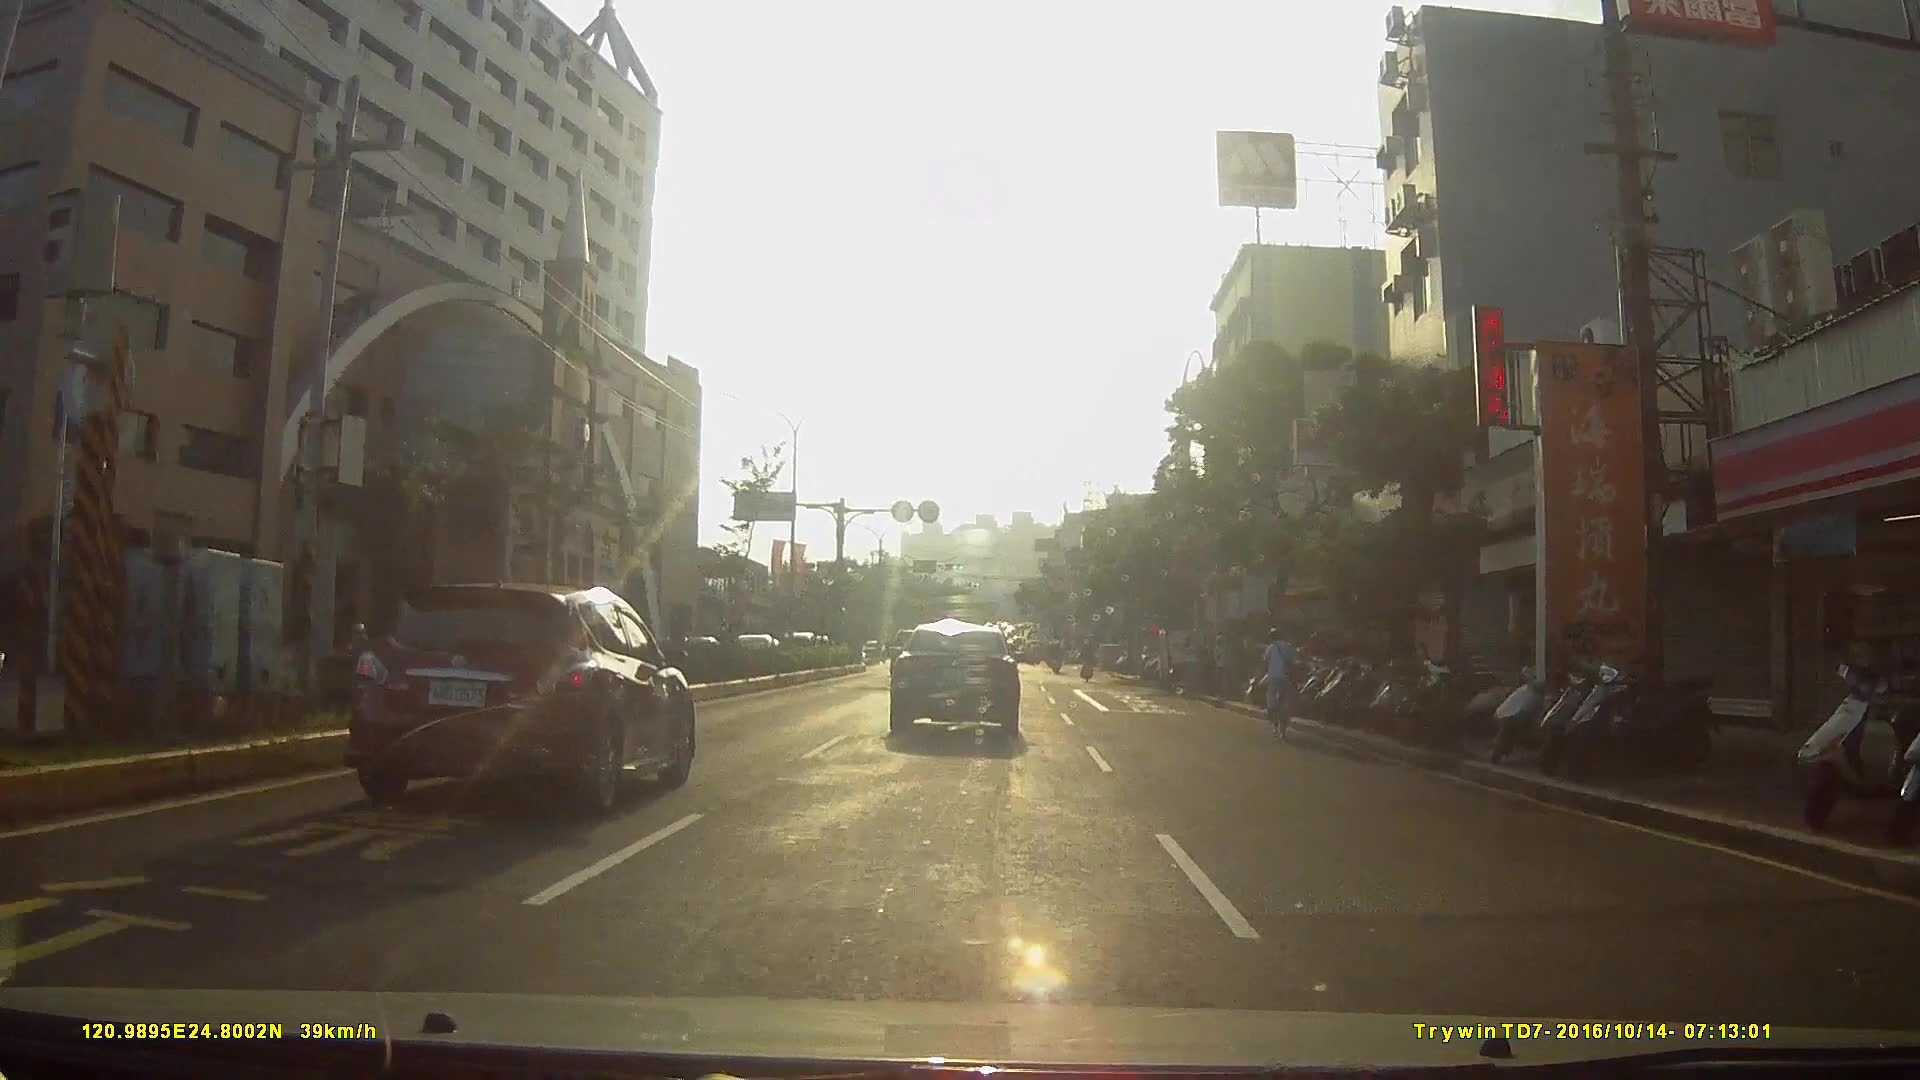rider: (1258, 624, 1302, 738)
vehicle: (345, 576, 710, 816), (885, 614, 1035, 747), (1154, 621, 1223, 689), (763, 607, 822, 662)
